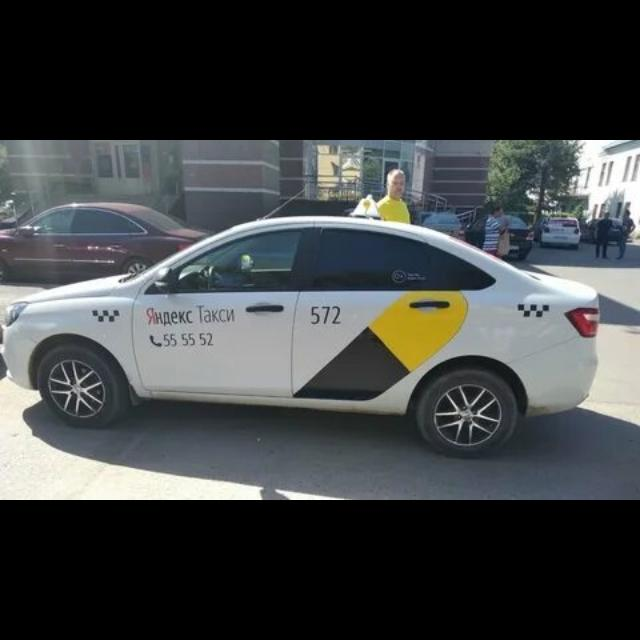taxi: (1, 206, 601, 458)
